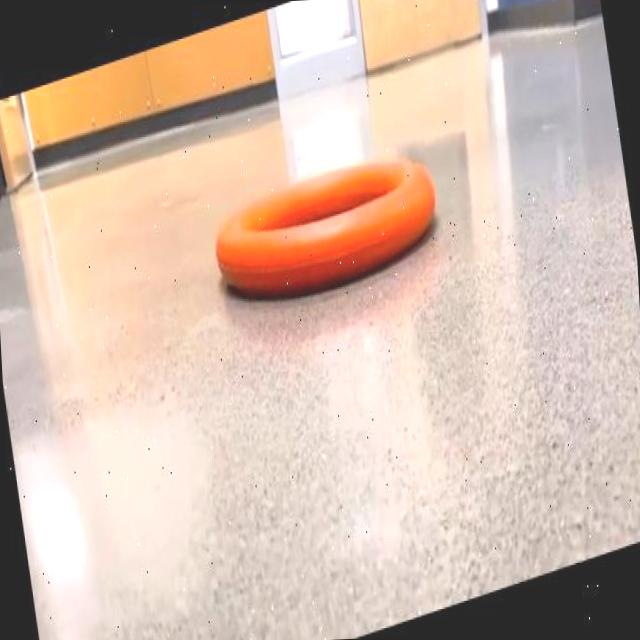note: (215, 157, 436, 293)
